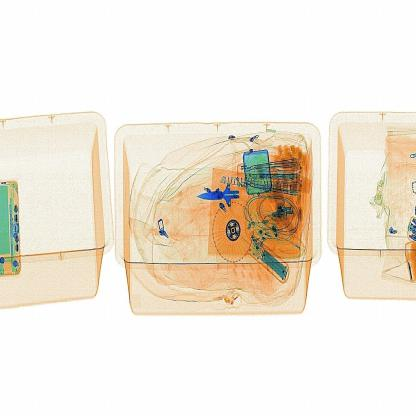gun: (197, 169, 260, 223)
